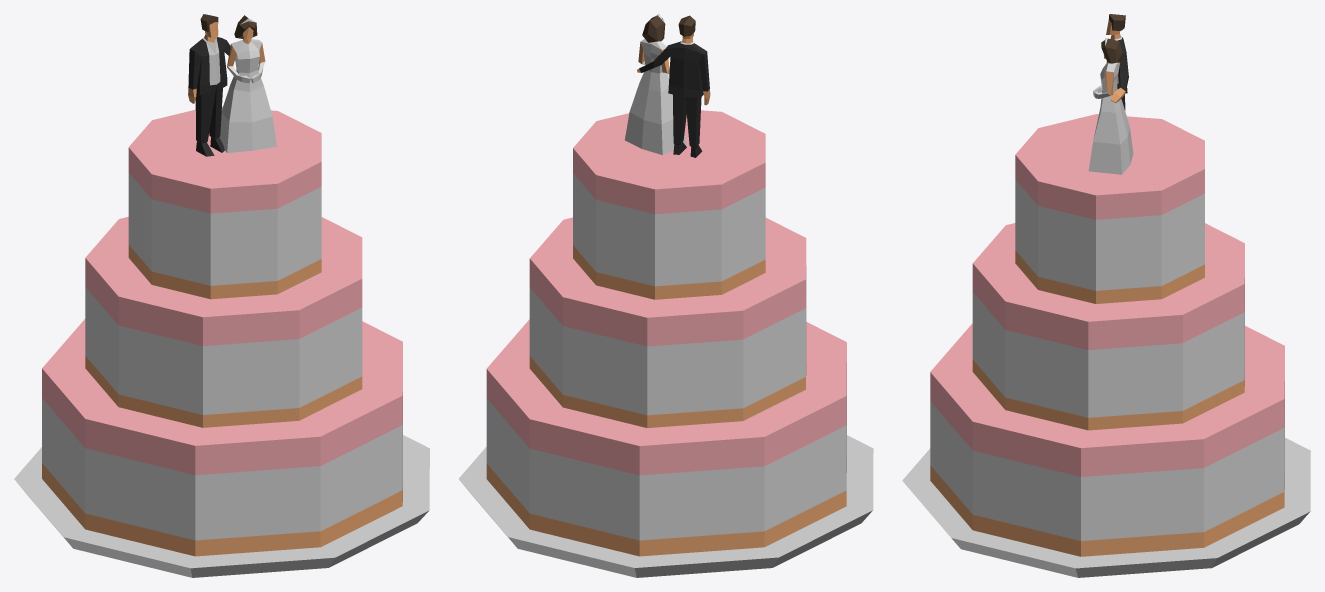
The model's file is props-cake-wedding.glb.
3 views of the same model, side by side, from view 1: azimuth 30°, elevation 25°; view 2: azimuth 150°, elevation 25°; view 3: azimuth 270°, elevation 25° (orthographic).
Parts seen in each view (by area): view 1: cake-wedding; view 2: cake-wedding; view 3: cake-wedding.
Boxes of the visible parts, left/top/right/bottom form: cake-wedding: left=14, top=14, right=429, bottom=577; cake-wedding: left=459, top=14, right=873, bottom=577; cake-wedding: left=902, top=14, right=1310, bottom=577.
Bounding box in the file's own units: 0.6227 × 0.7844 × 0.6135.
